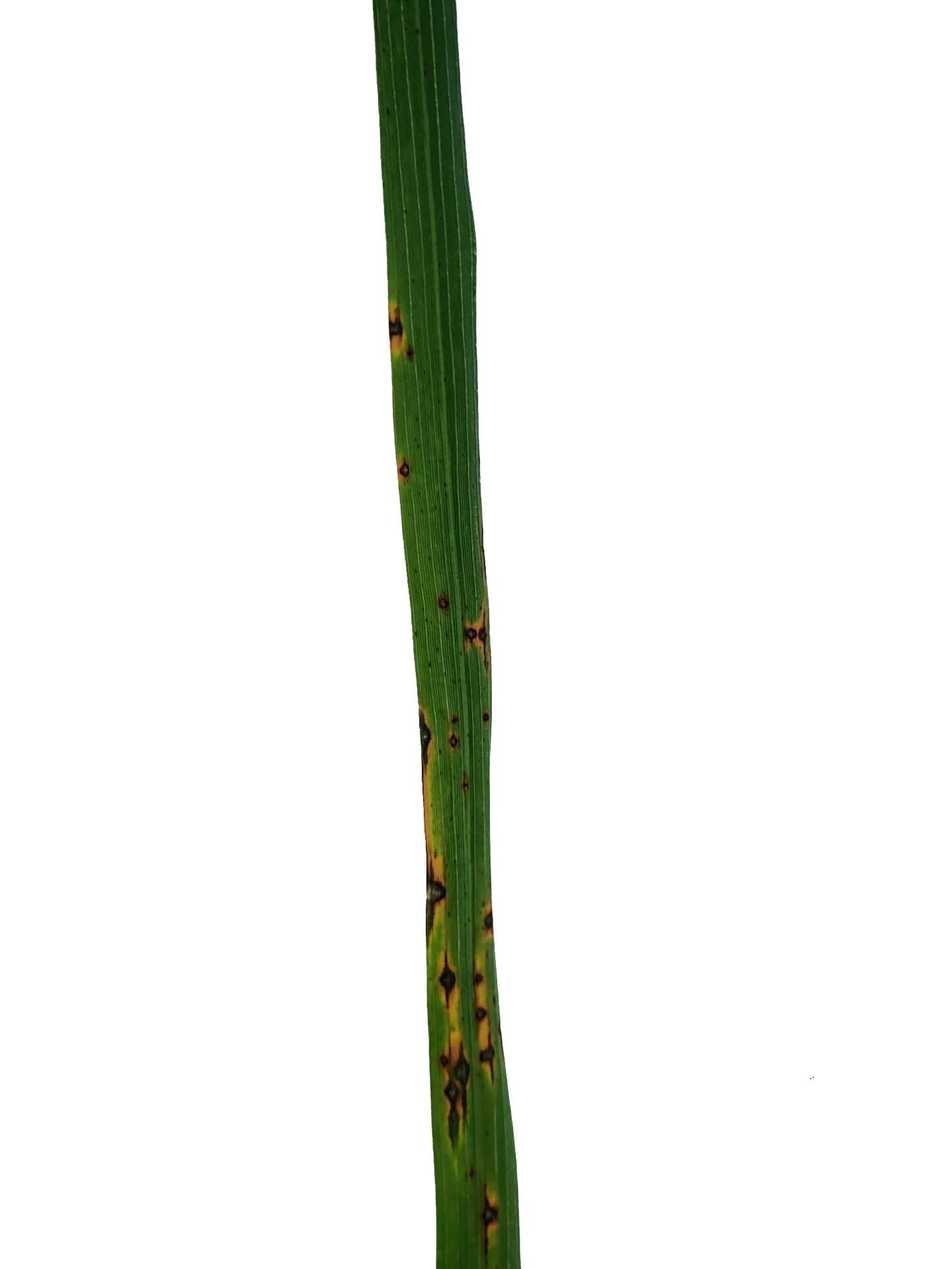Rice blast: (433, 843, 496, 1120), (383, 278, 430, 383), (446, 582, 489, 674)
